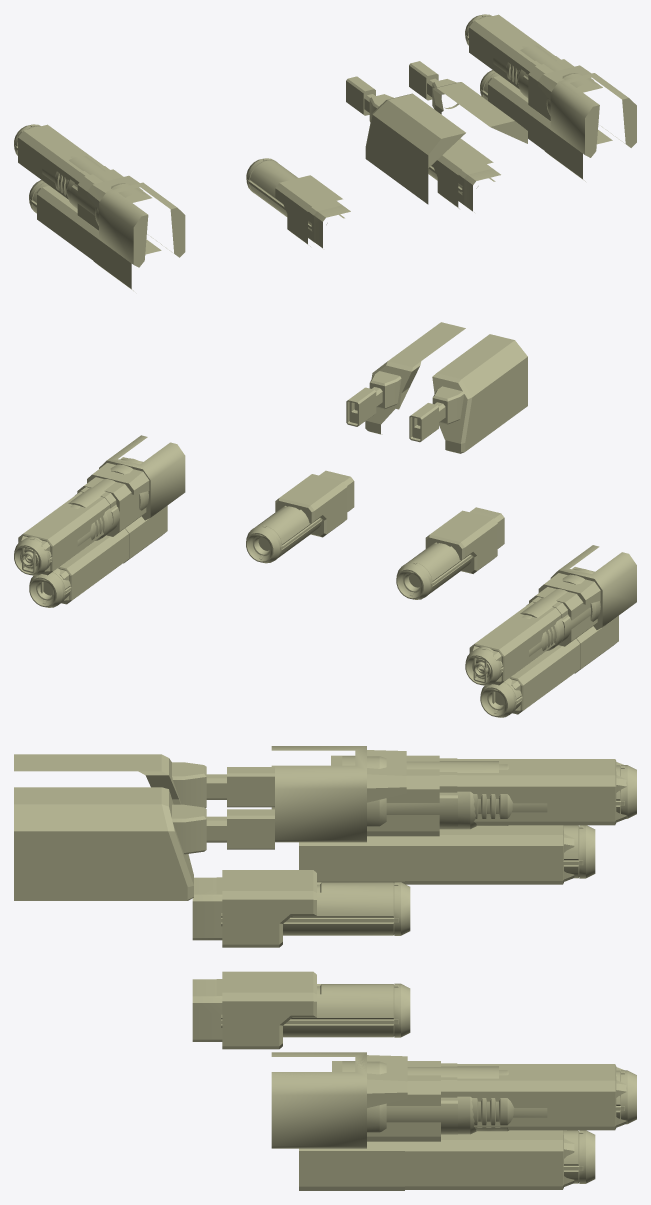
File: RiflemanWeapons.glb
3 renders of one model, top to bottom at view 1: azimuth 30°, elevation 25°; view 2: azimuth 150°, elevation 25°; view 3: azimuth 270°, elevation 25°, orthographic. The views are drawn at different scales.
Parts seen in each view (by area): view 1: Forearm_Left_BH1_AC10, Torso_Center_EH2_Laser, Forearm_Right_BH1_AC20, Torso_Left_EH1_PPC, Forearm_Right_BH1_AC10, Forearm_Right_EH2_Laser, Forearm_Right_EH1_Laser, Torso_Center_EH2_Flamer, Forearm_Left_EH1_Laser, Forearm_Left_EH2_Laser, Forearm_Left_BH1_AC20, Torso_Right_EH1_PPC (+5 smaller); view 2: Torso_Right_EH1_PPC, Torso_Left_EH1_PPC, Torso_Center_EH2_Laser, Forearm_Left_BH1_AC10, Forearm_Right_BH1_AC20, Torso_Center_EH2_Flamer, Forearm_Right_EH2_Laser, Forearm_Right_EH1_Laser, Forearm_Left_EH1_Laser, Forearm_Left_EH2_Laser, Forearm_Right_BH1_AC10, Forearm_Left_BH1_AC20 (+7 smaller); view 3: Torso_Center_EH1_Flamer, Forearm_Left_EH2_Laser, Forearm_Right_BH1_AC10, Torso_Right_EH1_PPC, Torso_Left_EH1_PPC, Forearm_Left_BH1_AC20, Forearm_Right_EH2_Laser, Forearm_Left_EH1_Laser, Forearm_Right_EH1_Laser, Torso_Center_EH2_Flamer, Forearm_Left_BH1_AC10, Forearm_Right_BH1_AC20 (+8 smaller).
Part boxes in pixels (x1,y1,x2,y2): Forearm_Left_BH1_AC10: (42,167,185,267); Torso_Center_EH2_Laser: (365,100,440,204); Forearm_Right_BH1_AC20: (506,45,634,156); Torso_Left_EH1_PPC: (246,158,344,246); Forearm_Right_BH1_AC10: (493,58,636,157); Forearm_Right_EH2_Laser: (488,75,612,181); Forearm_Right_EH1_Laser: (469,14,554,89); Torso_Center_EH2_Flamer: (346,76,465,167); Forearm_Left_EH1_Laser: (18,124,103,199); Forearm_Left_EH2_Laser: (36,185,161,288); Forearm_Left_BH1_AC20: (55,155,184,267); Torso_Right_EH1_PPC: (428,138,495,208); Torso_Right_EH1_PPC: (246,474,347,563); Torso_Left_EH1_PPC: (396,510,497,599); Torso_Center_EH2_Laser: (432,340,527,453); Forearm_Left_BH1_AC10: (529,554,636,656); Forearm_Right_BH1_AC20: (68,435,185,539); Torso_Center_EH2_Flamer: (409,334,514,443); Forearm_Right_EH2_Laser: (58,505,167,604); Forearm_Right_EH1_Laser: (18,492,116,575); Forearm_Left_EH1_Laser: (469,602,567,685); Forearm_Left_EH2_Laser: (509,615,618,714); Forearm_Right_BH1_AC10: (77,436,176,546); Forearm_Left_BH1_AC20: (520,545,628,650); Torso_Center_EH1_Flamer: (14,790,274,900); Forearm_Left_EH2_Laser: (299,825,574,884); Forearm_Right_BH1_AC10: (271,1052,547,1148); Torso_Right_EH1_PPC: (221,971,410,1049); Torso_Left_EH1_PPC: (221,870,410,947); Forearm_Left_BH1_AC20: (271,746,512,842); Forearm_Right_EH2_Laser: (299,1130,574,1190); Forearm_Left_EH1_Laser: (439,759,626,825); Forearm_Right_EH1_Laser: (457,1064,626,1130); Torso_Center_EH2_Flamer: (14,754,274,808); Forearm_Left_BH1_AC10: (331,750,547,836); Forearm_Right_BH1_AC20: (271,1052,514,1134).
Bounding box in the file's own units: 1.54 × 0.5283 × 1.19.
